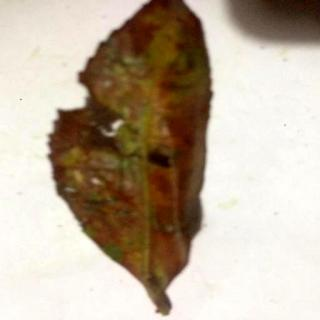Red Leaf Spot: (49, 1, 214, 317)
